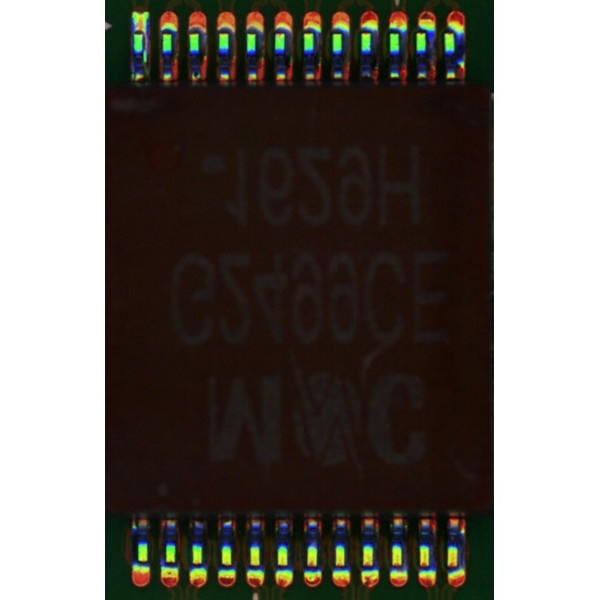Bad_podu: (134, 23, 142, 40)
Bad_qiaojiao: (142, 34, 148, 72)
